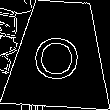O_N: (33, 27, 85, 81)
